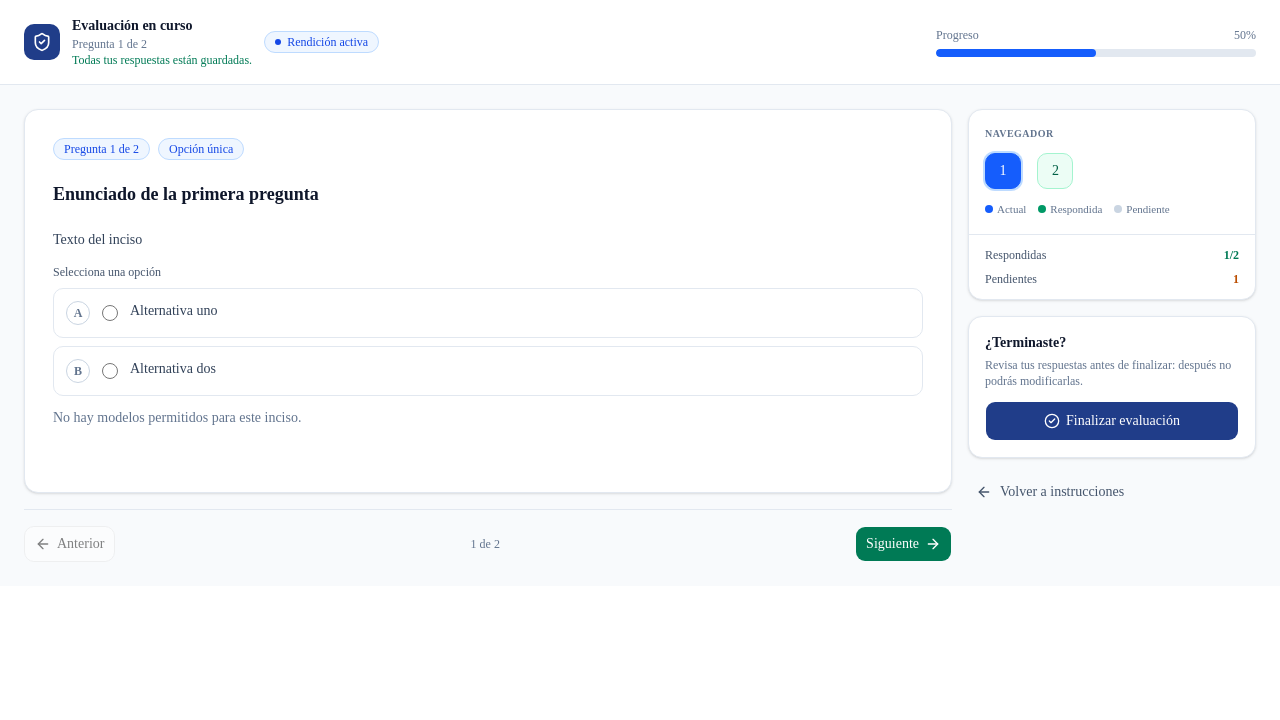
Scenario: RendicionEvaluacion › no finaliza si quedaron respuestas sin guardar
Click the button "Finalizar evaluación".
click(1112, 420)  # box [985,400,1239,440]
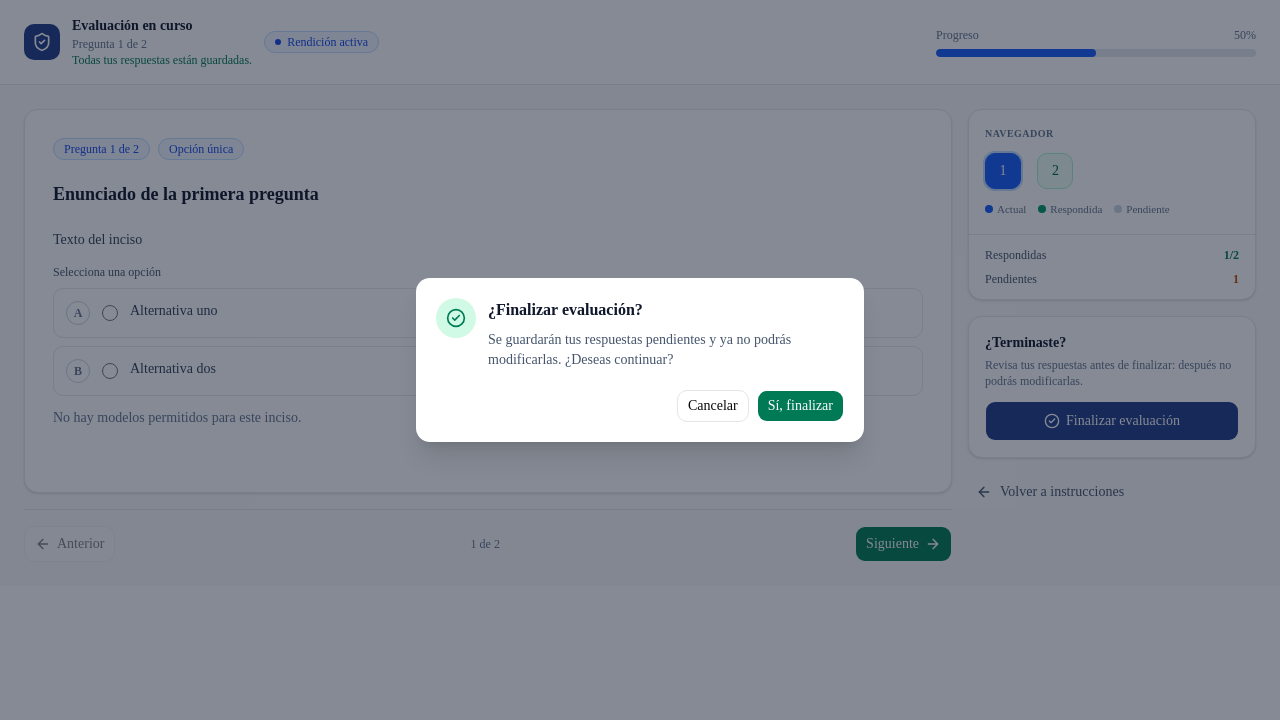
Click the button "Sí, finalizar".
click(800, 406)  # box [757,390,844,422]
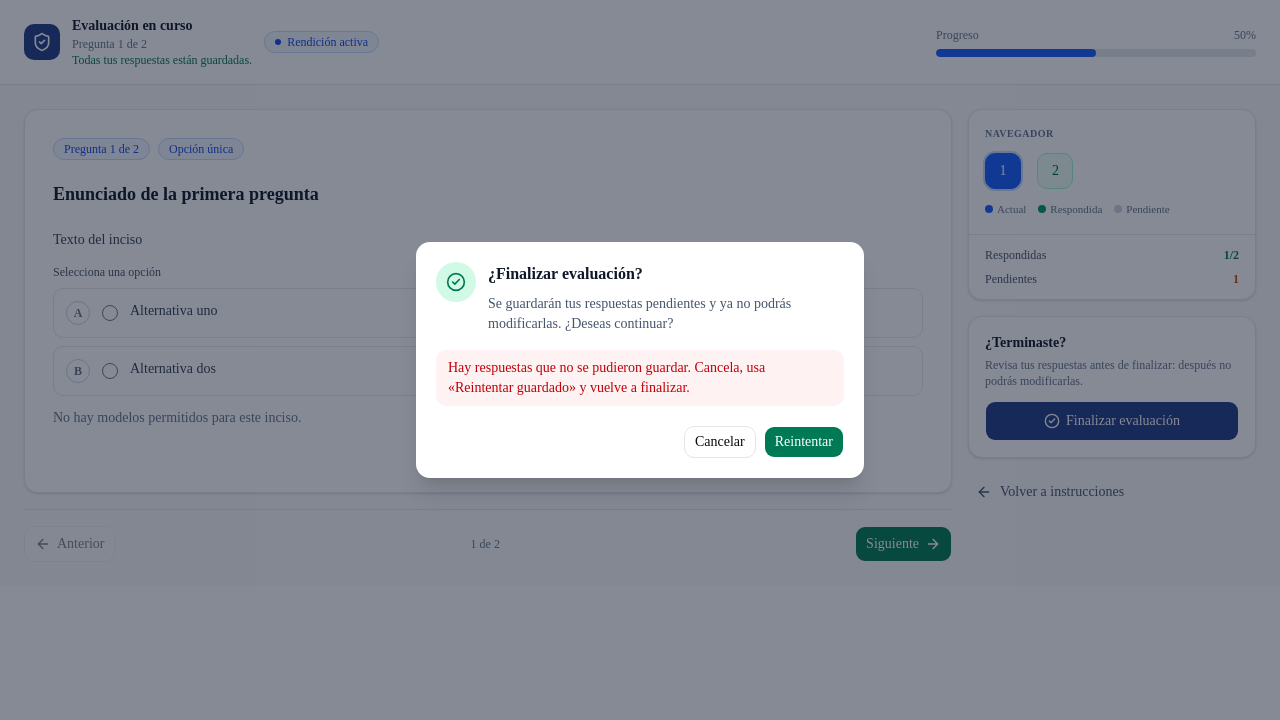
Expected: the message shows "no se pudieron guardar", [448,360,765,395]
Expected: the button "Reintentar" is shown, [764,426,844,458]
